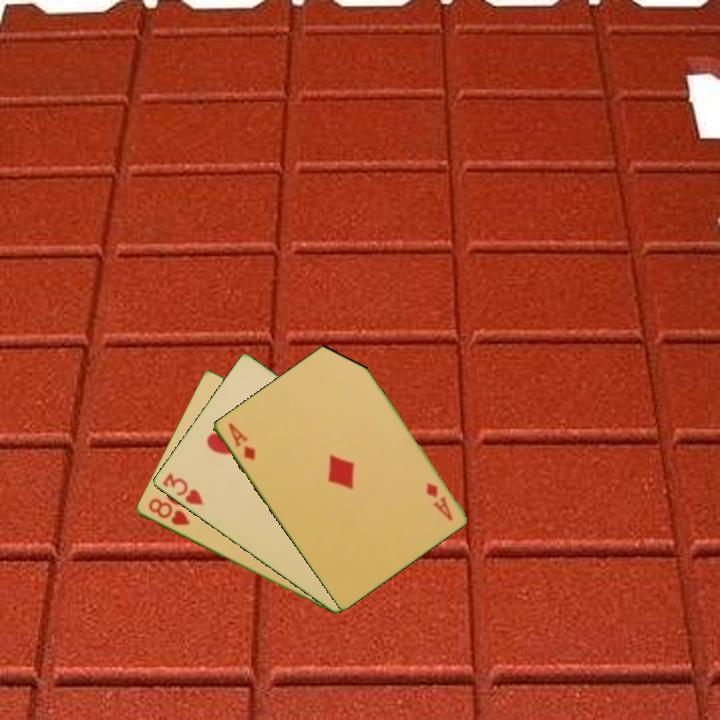3h: (159, 470, 206, 508)
8h: (144, 495, 193, 529)
Ad: (224, 419, 258, 463), (422, 479, 455, 524)
